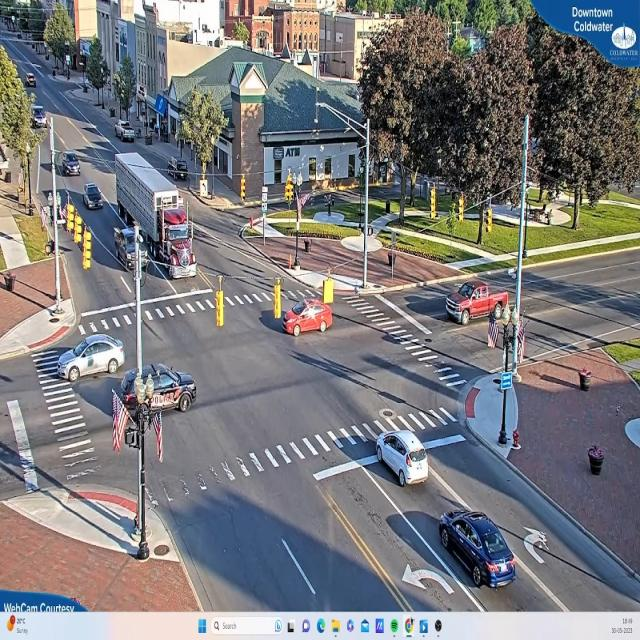car: (438, 510, 519, 589), (121, 364, 198, 413), (374, 429, 430, 487), (56, 336, 125, 383), (444, 284, 509, 324), (284, 300, 332, 336), (115, 222, 146, 270), (525, 528, 552, 561), (59, 155, 82, 177), (85, 184, 103, 210), (115, 122, 136, 143)
truck: (156, 187, 194, 284)
